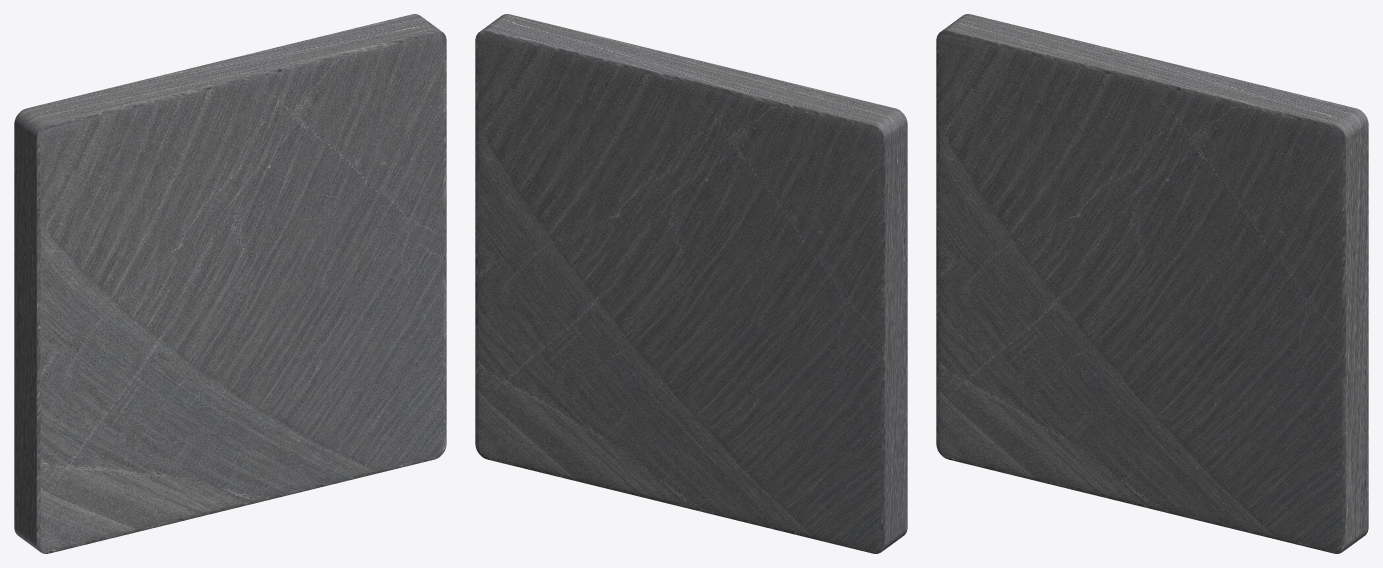
Rendered from limestone-02.glb.
The picture shows the model from 3 angles, left to right: view 1: azimuth 30°, elevation 25°; view 2: azimuth 150°, elevation 25°; view 3: azimuth 330°, elevation 25°; orthographic projection.
Visible parts, largest first — view 1: Cube; view 2: Cube; view 3: Cube.
Boxes of the visible parts, bbox=[...] form: Cube: bbox=[14, 14, 446, 553]; Cube: bbox=[475, 14, 907, 553]; Cube: bbox=[936, 14, 1368, 553].
Bounding box in the file's own units: 0.1 × 0.1 × 0.01.
Materials: 2 (2 with a texture image).
